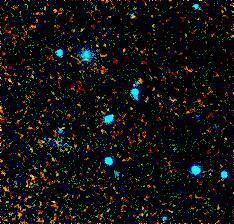star: (123, 63, 153, 93)
